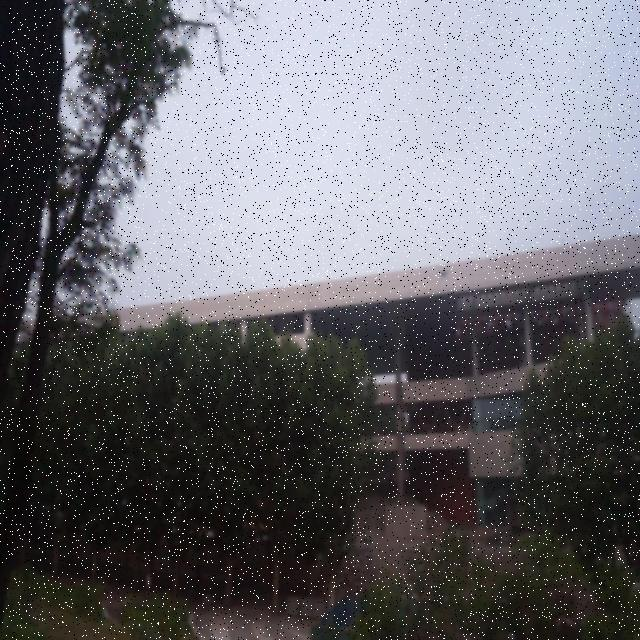UAV: (438, 269, 450, 279)
